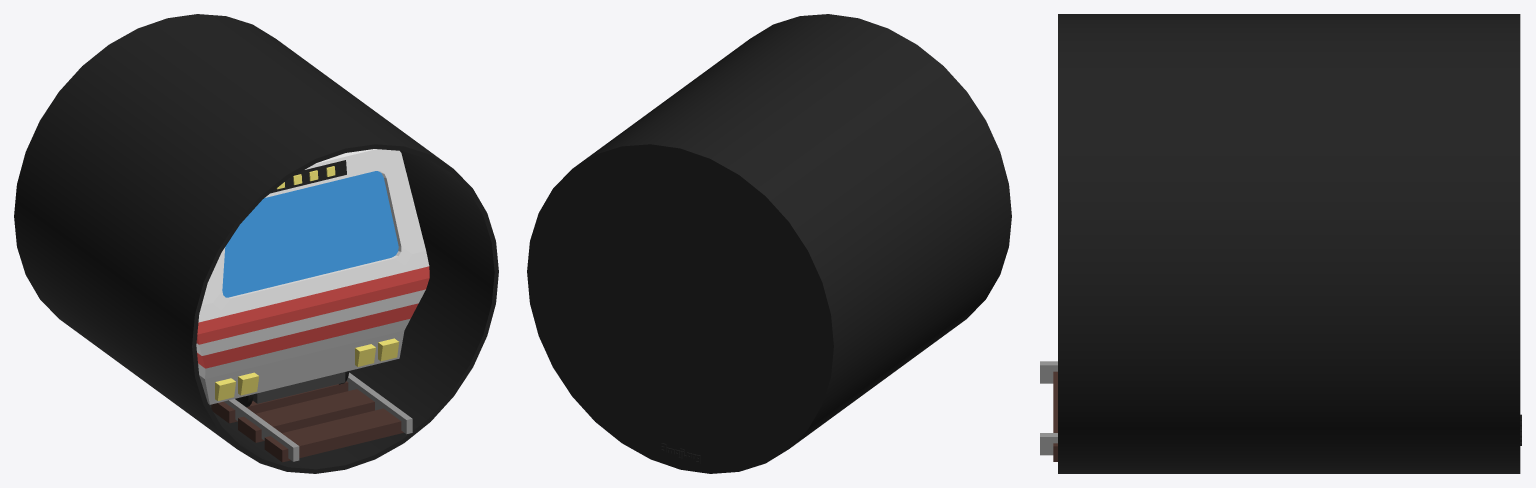
Rendered from metro.fbx.
The picture shows the model from 3 angles, left to right: view 1: azimuth 30°, elevation 25°; view 2: azimuth 150°, elevation 25°; view 3: azimuth 270°, elevation 25°; orthographic projection. The views are drawn at different scales.
Visible parts, largest first — view 1: Cylinder.434; view 2: Cylinder.434; view 3: Cylinder.434.
Part boxes in pixels (x1,y1,x2,y2): Cylinder.434: (14,14,498,473); Cylinder.434: (527,14,1011,473); Cylinder.434: (1040,14,1521,473).
Size of the model in its own units: 206 by 206 by 215.
1 material, 1 textured.
